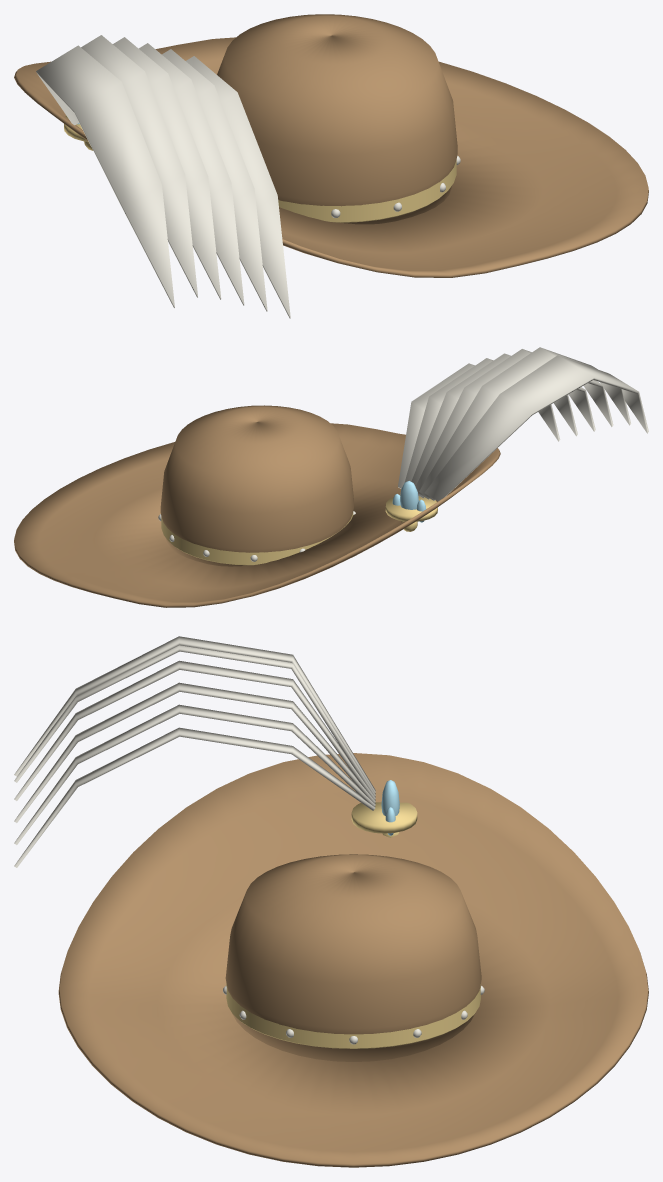
File: devalois_head.glb
3 renders of one model, top to bottom at view 1: azimuth 30°, elevation 25°; view 2: azimuth 150°, elevation 25°; view 3: azimuth 270°, elevation 25°, orthographic. The views are drawn at different scales.
Parts seen in each view (by area): view 1: G_devalois_head; view 2: G_devalois_head; view 3: G_devalois_head.
Part boxes in pixels (x1,y1,x2,y2): G_devalois_head: (14,14,648,318); G_devalois_head: (14,347,648,607); G_devalois_head: (14,636,648,1167).
Bounding box in the file's own units: 0.6813 × 0.2806 × 0.6194.
